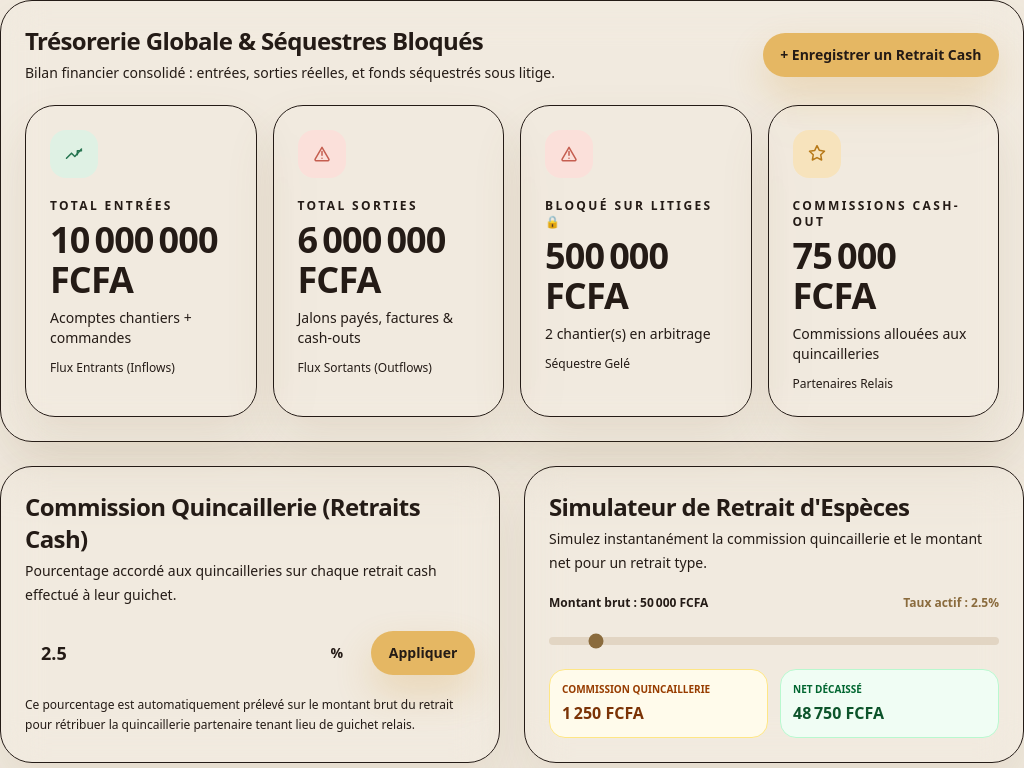
Test: CashoutQuincaillerieSection › ouvre le formulaire de nouveau retrait et refuse une soumission incomplète
Click the button "+ Enregistrer un Retrait Cash" at [881, 55], box [763, 33, 999, 77]
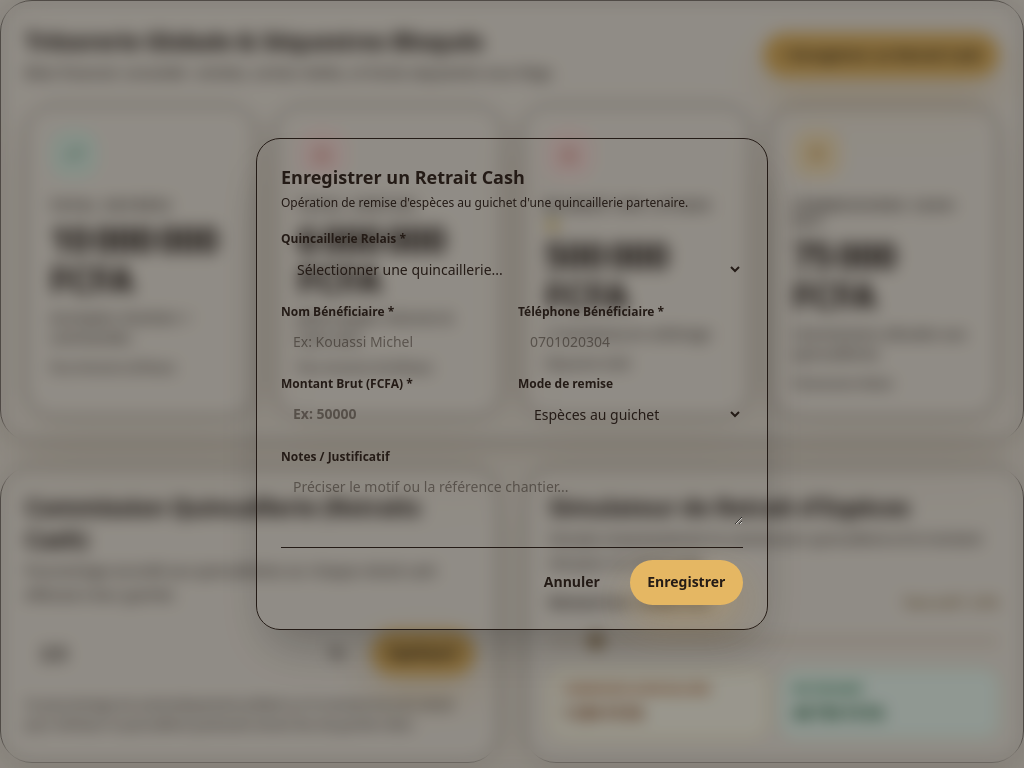
Result: the heading "Enregistrer un Retrait Cash" is shown at [281, 165, 525, 189]
Submit the form named "Enregistrer", box [281, 231, 743, 605]
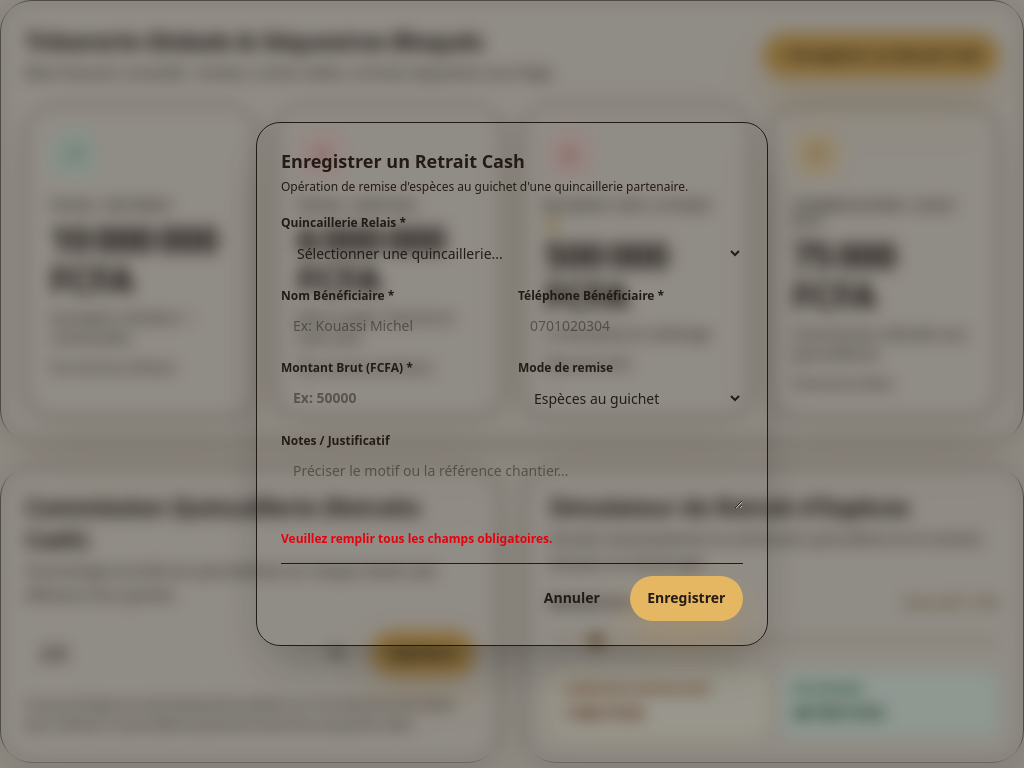
Result: the message reads "Veuillez remplir tous les champs obligatoires." at [281, 530, 552, 547]
